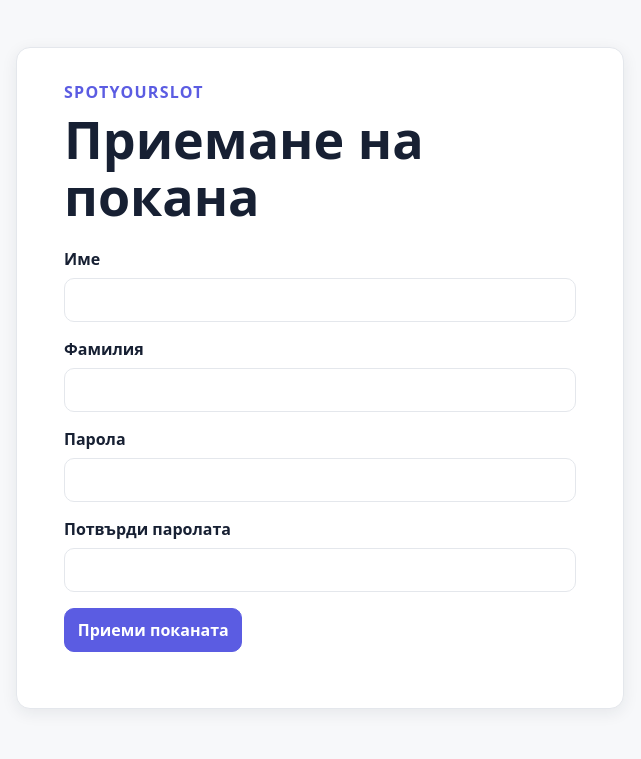
Test: identity application › shows the distinct existing-user credential mismatch message
Type "Иван" into the field labelled "Име". click: (320, 300)
box: [64,278,576,322]
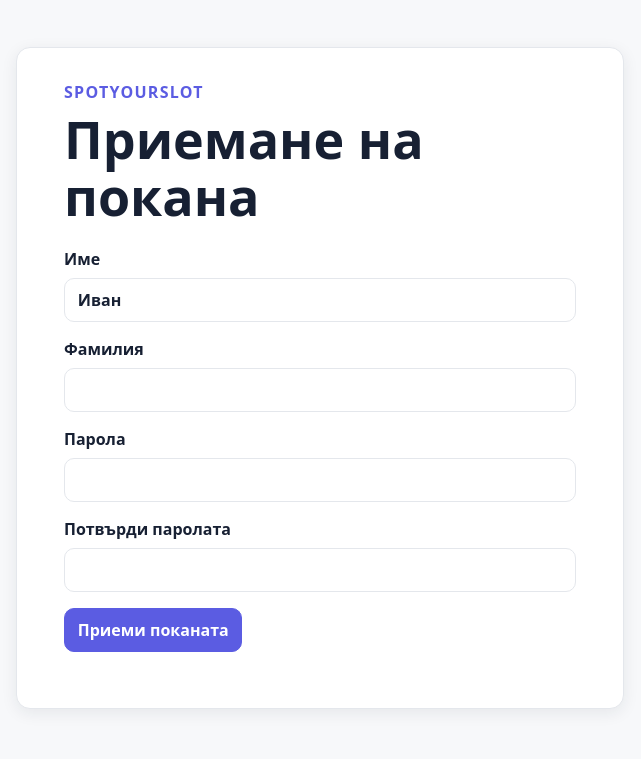
Type "Иванов" into the field labelled "Фамилия". click: (320, 390)
box: [64,368,576,412]
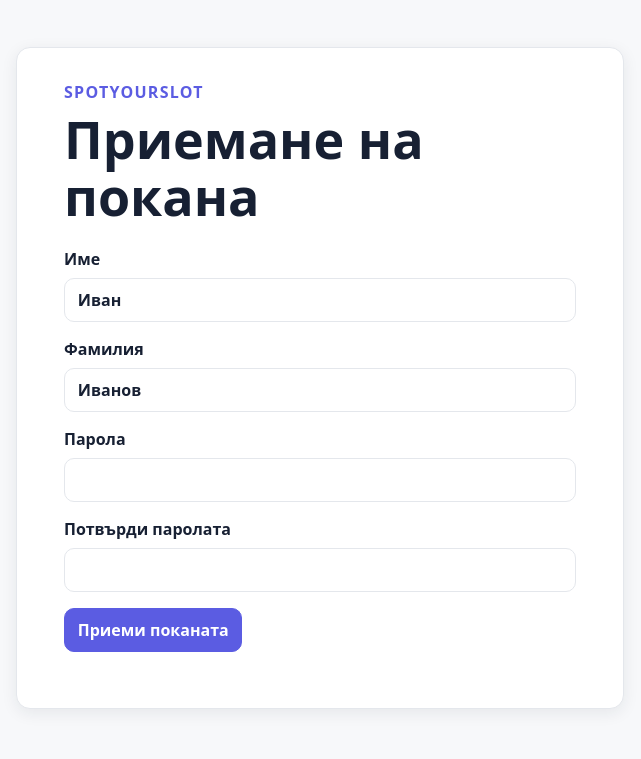
Type "secure passphrase" into the password field labelled "Парола". click: (320, 480)
box: [64,458,576,502]
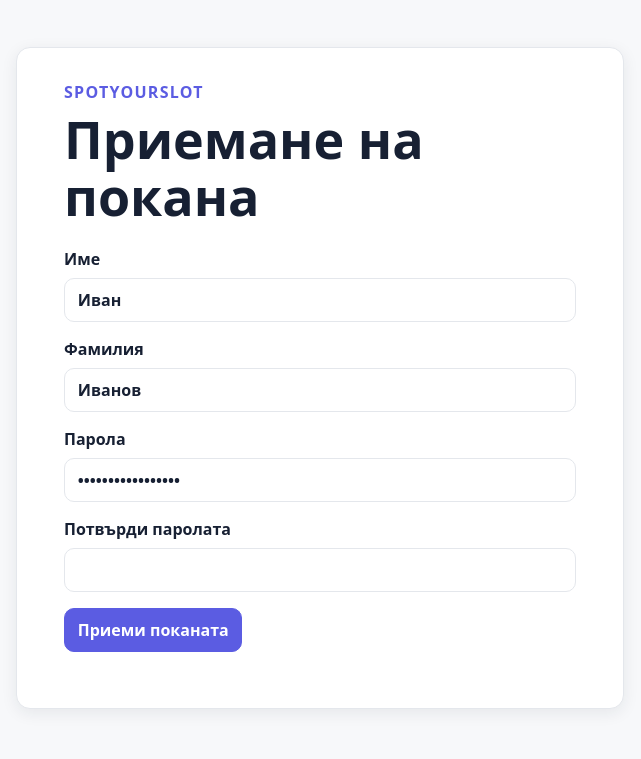
Type "secure passphrase" into the password field labelled "Потвърди паролата". click: (320, 570)
box: [64,548,576,592]
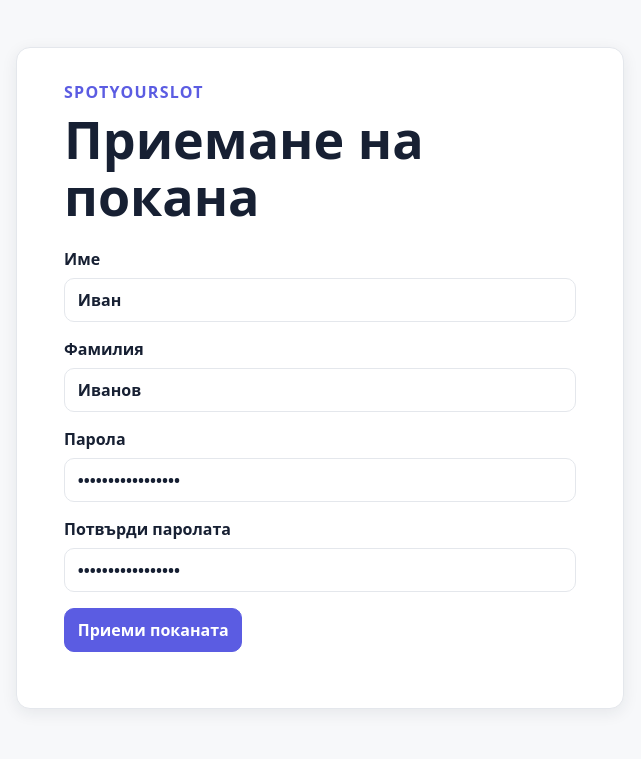
Submit the form "Приеми поканата", box [64,248,576,652]
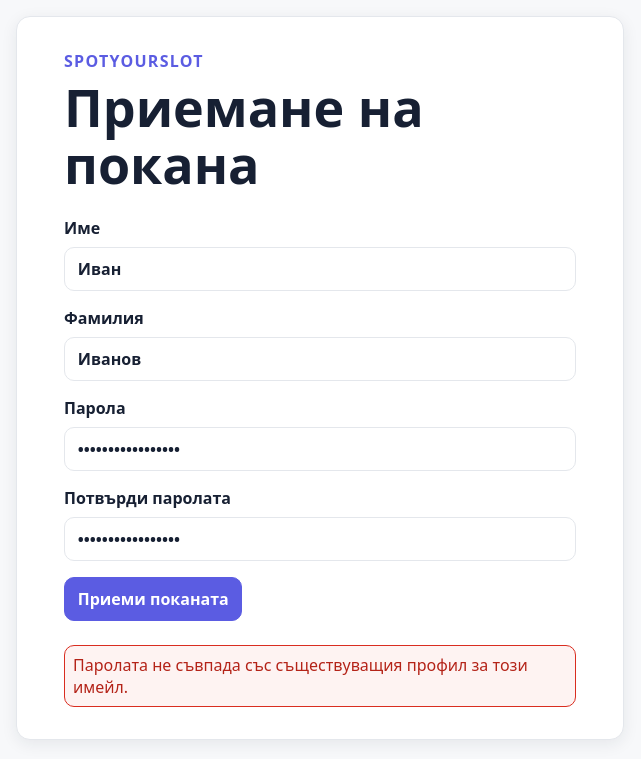
Result: the message reads "Паролата не съвпада със съществуващия профил за този имейл." at [73,654,528,698]
